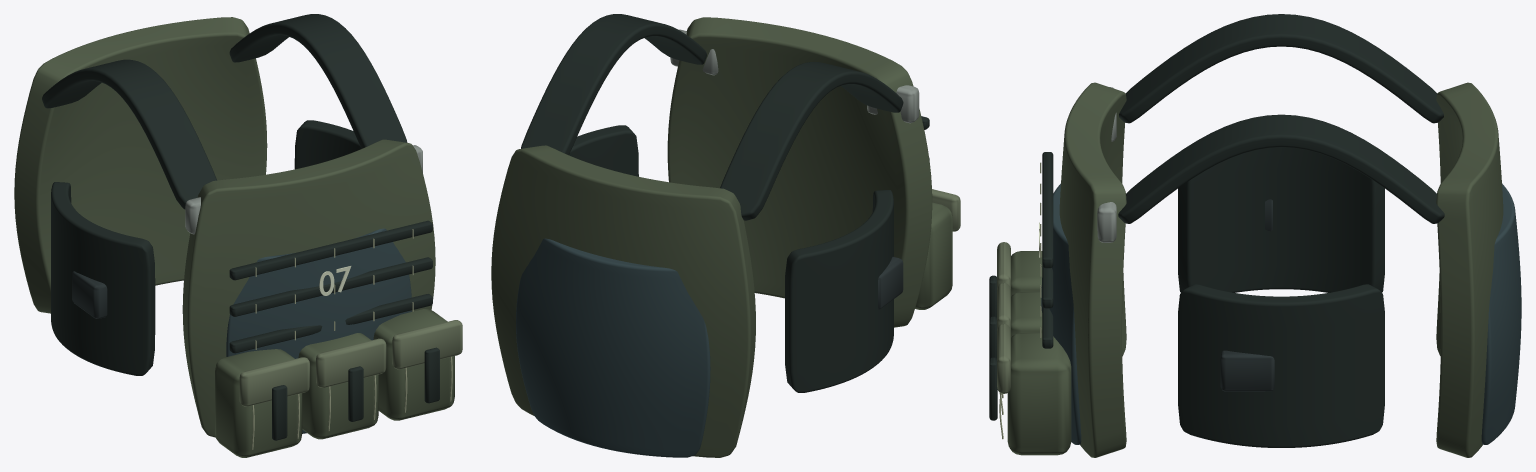
The model's file is armor.glb.
The picture shows the model from 3 angles, left to right: view 1: azimuth 30°, elevation 25°; view 2: azimuth 150°, elevation 25°; view 3: azimuth 270°, elevation 25°; orthographic projection. The views are drawn at different scales.
Visible parts, largest first — view 1: ArmorBackCarrier, ArmorFrontCarrier, ArmorCummerbund, ArmorFrontPlate, ArmorShoulderWebbing, ArmorShoulderWebbing.001, ArmorMagazinePouch, ArmorMagazinePouch.002, ArmorMagazinePouch.001, ArmorMolleRow.002, ArmorMolleRow.001, ArmorPouchFlap.001 (+9 smaller); view 2: ArmorFrontCarrier, ArmorBackCarrier, ArmorBackPlate, ArmorCummerbund, ArmorShoulderWebbing, ArmorShoulderWebbing.001, ArmorMagazinePouch, ArmorCummerbund.001, ArmorSideRelease, ArmorShoulderBuckle, ArmorPouchFlap; view 3: ArmorCummerbund.001, ArmorCummerbund, ArmorBackCarrier, ArmorFrontCarrier, ArmorShoulderWebbing, ArmorShoulderWebbing.001, ArmorMagazinePouch.002, ArmorBackPlate, ArmorFrontPlate, ArmorSideRelease.001, ArmorMolleRow.002, ArmorMagazinePouch.001 (+6 smaller).
Boxes of the visible parts, left/top/right/bottom form: ArmorBackCarrier: left=14, top=17, right=267, bottom=313; ArmorFrontCarrier: left=182, top=139, right=435, bottom=437; ArmorCummerbund: left=51, top=182, right=155, bottom=375; ArmorFrontPlate: left=226, top=228, right=411, bottom=433; ArmorShoulderWebbing: left=42, top=59, right=216, bottom=209; ArmorShoulderWebbing.001: left=229, top=14, right=407, bottom=148; ArmorMagazinePouch: left=215, top=349, right=302, bottom=457; ArmorMagazinePouch.002: left=373, top=309, right=454, bottom=420; ArmorMagazinePouch.001: left=298, top=333, right=378, bottom=439; ArmorMolleRow.002: left=229, top=220, right=432, bottom=280; ArmorMolleRow.001: left=229, top=257, right=432, bottom=316; ArmorPouchFlap.001: left=316, top=338, right=386, bottom=387; ArmorFrontCarrier: left=667, top=17, right=932, bottom=327; ArmorBackCarrier: left=491, top=145, right=755, bottom=457; ArmorBackPlate: left=516, top=238, right=710, bottom=457; ArmorCummerbund: left=785, top=190, right=893, bottom=392; ArmorShoulderWebbing: left=720, top=62, right=903, bottom=220; ArmorShoulderWebbing.001: left=521, top=14, right=706, bottom=155; ArmorMagazinePouch: left=915, top=202, right=952, bottom=309; ArmorCummerbund.001: left=569, top=125, right=638, bottom=176; ArmorSideRelease: left=878, top=256, right=903, bottom=309; ArmorShoulderBuckle: left=867, top=85, right=919, bottom=123; ArmorPouchFlap: left=932, top=189, right=960, bottom=231; ArmorCummerbund.001: left=1178, top=284, right=1384, bottom=447; ArmorCummerbund: left=1178, top=147, right=1384, bottom=292; ArmorBackCarrier: left=1436, top=82, right=1503, bottom=457; ArmorFrontCarrier: left=1059, top=82, right=1126, bottom=457; ArmorShoulderWebbing: left=1119, top=14, right=1443, bottom=123; ArmorShoulderWebbing.001: left=1118, top=114, right=1444, bottom=223; ArmorMagazinePouch.002: left=1007, top=333, right=1071, bottom=455; ArmorBackPlate: left=1481, top=183, right=1521, bottom=444; ArmorFrontPlate: left=1041, top=183, right=1081, bottom=444; ArmorSideRelease.001: left=1220, top=350, right=1274, bottom=391; ArmorMolleRow.002: left=1042, top=152, right=1053, bottom=268; ArmorMagazinePouch.001: left=1011, top=292, right=1042, bottom=337.
Bounding box in the file's own units: 0.72 × 0.6642 × 0.9611.
